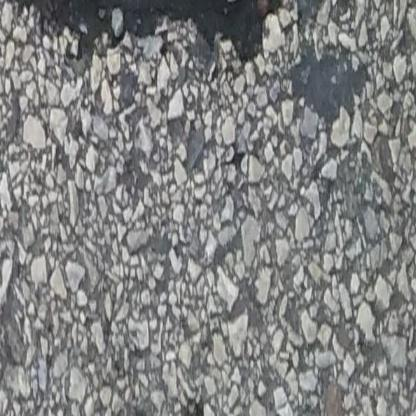Cracks: (0, 0, 286, 59)
